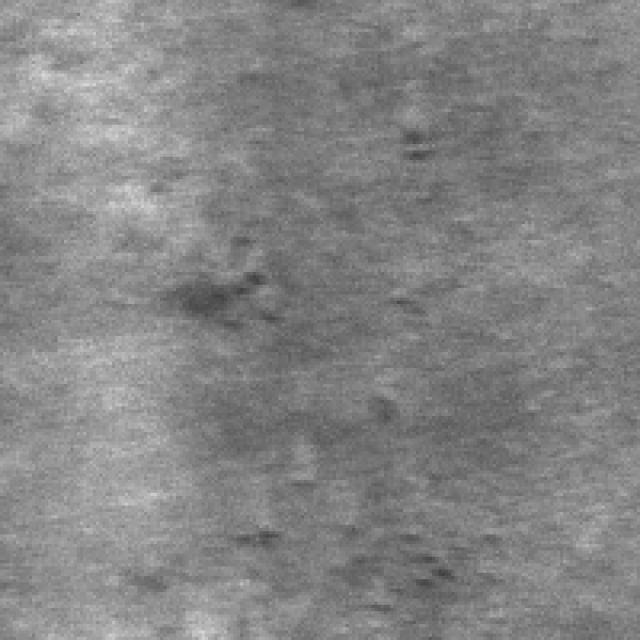rolled-in_scale: (314, 502, 461, 637), (157, 234, 301, 336)
